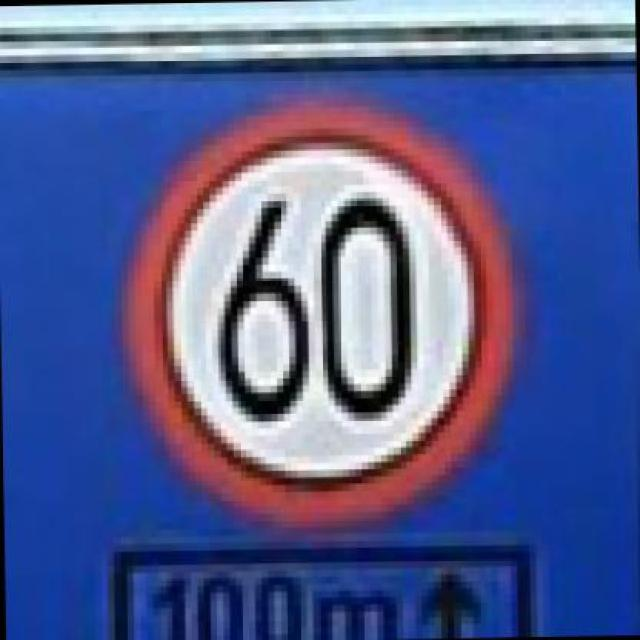Limite-60: (122, 94, 519, 532)
